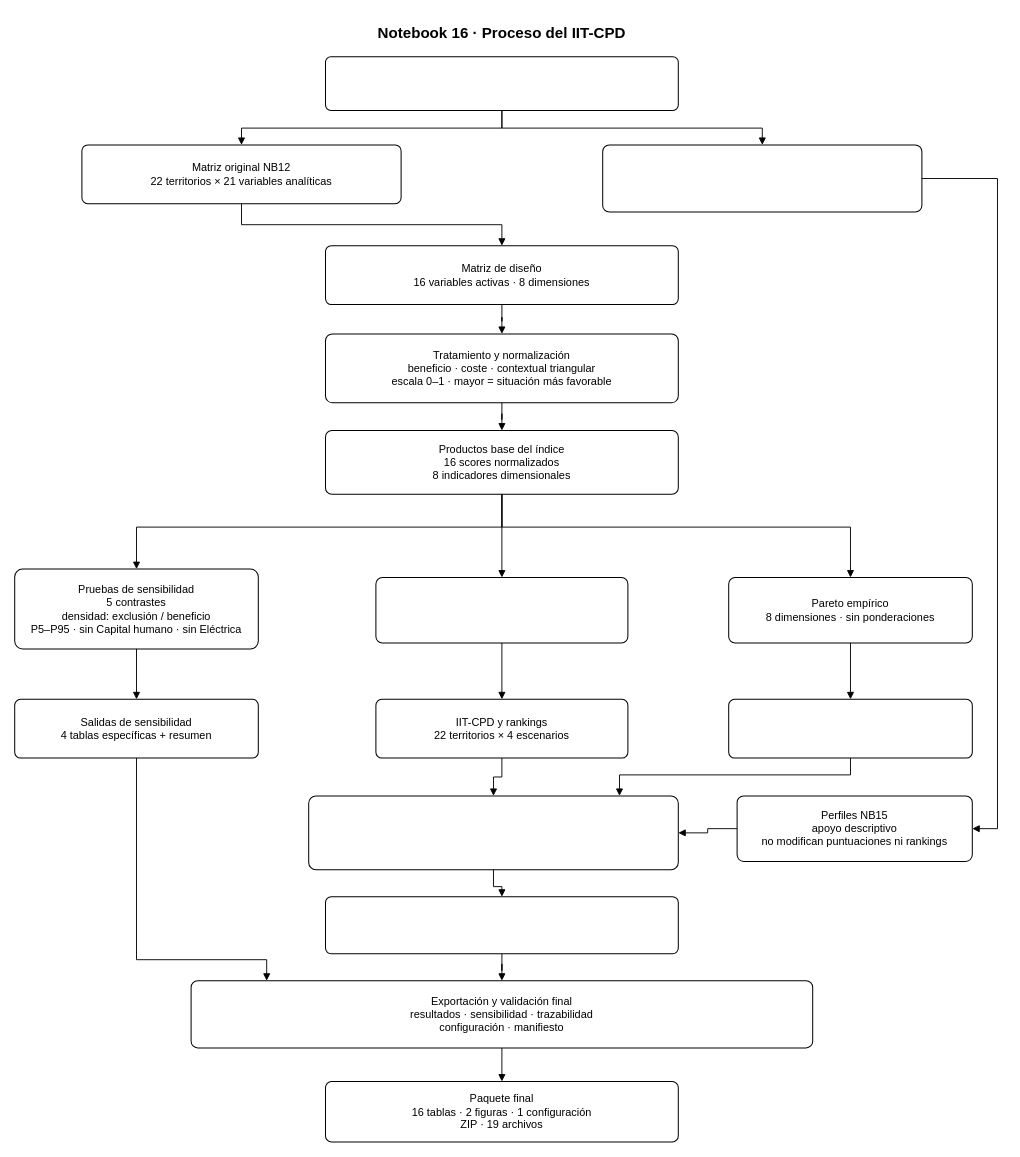
Some shapes in this 1020 by 1157 pixel diagram are drawn without their labels. Each missing label, with the box of its shape:
Entradas validadas Notebooks 12 y 15: (325, 56, 678, 111)
Escenarios Equilibrado · Energético Ambiental · Tecnológico: (375, 577, 628, 643)
Frentes y dominancia dominadores · dominados: (728, 698, 972, 758)
Integración para Power BI scores + indicadores + IIT/rankings Pareto + perfiles: (308, 795, 678, 870)
Resultados NB15 6 perfiles + distancias + singularidad apoyo descriptivo: (602, 144, 922, 212)
Tabla para Power BI 22 filas × 45 columnas: (325, 896, 678, 954)
